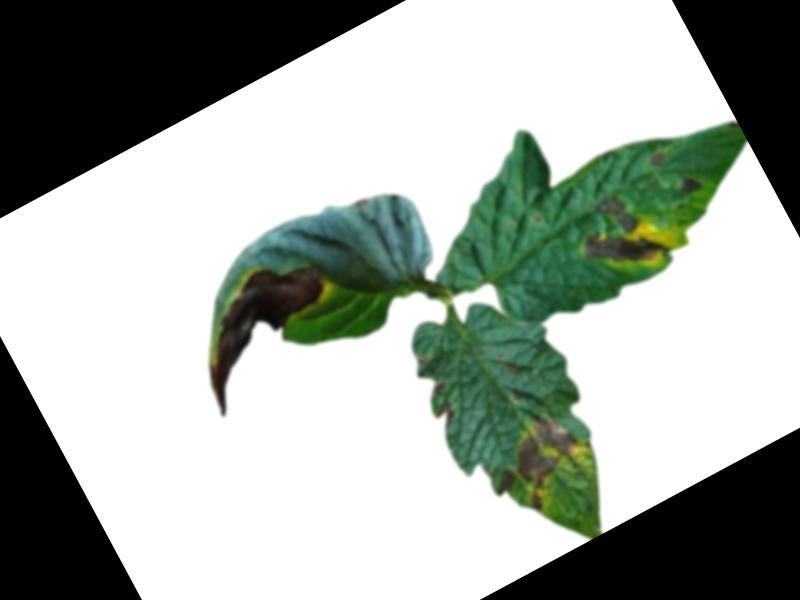Early_blight: (165, 241, 362, 419), (565, 182, 673, 289), (493, 406, 596, 513), (420, 378, 463, 428), (487, 464, 521, 498), (671, 170, 703, 199), (643, 148, 665, 169)
